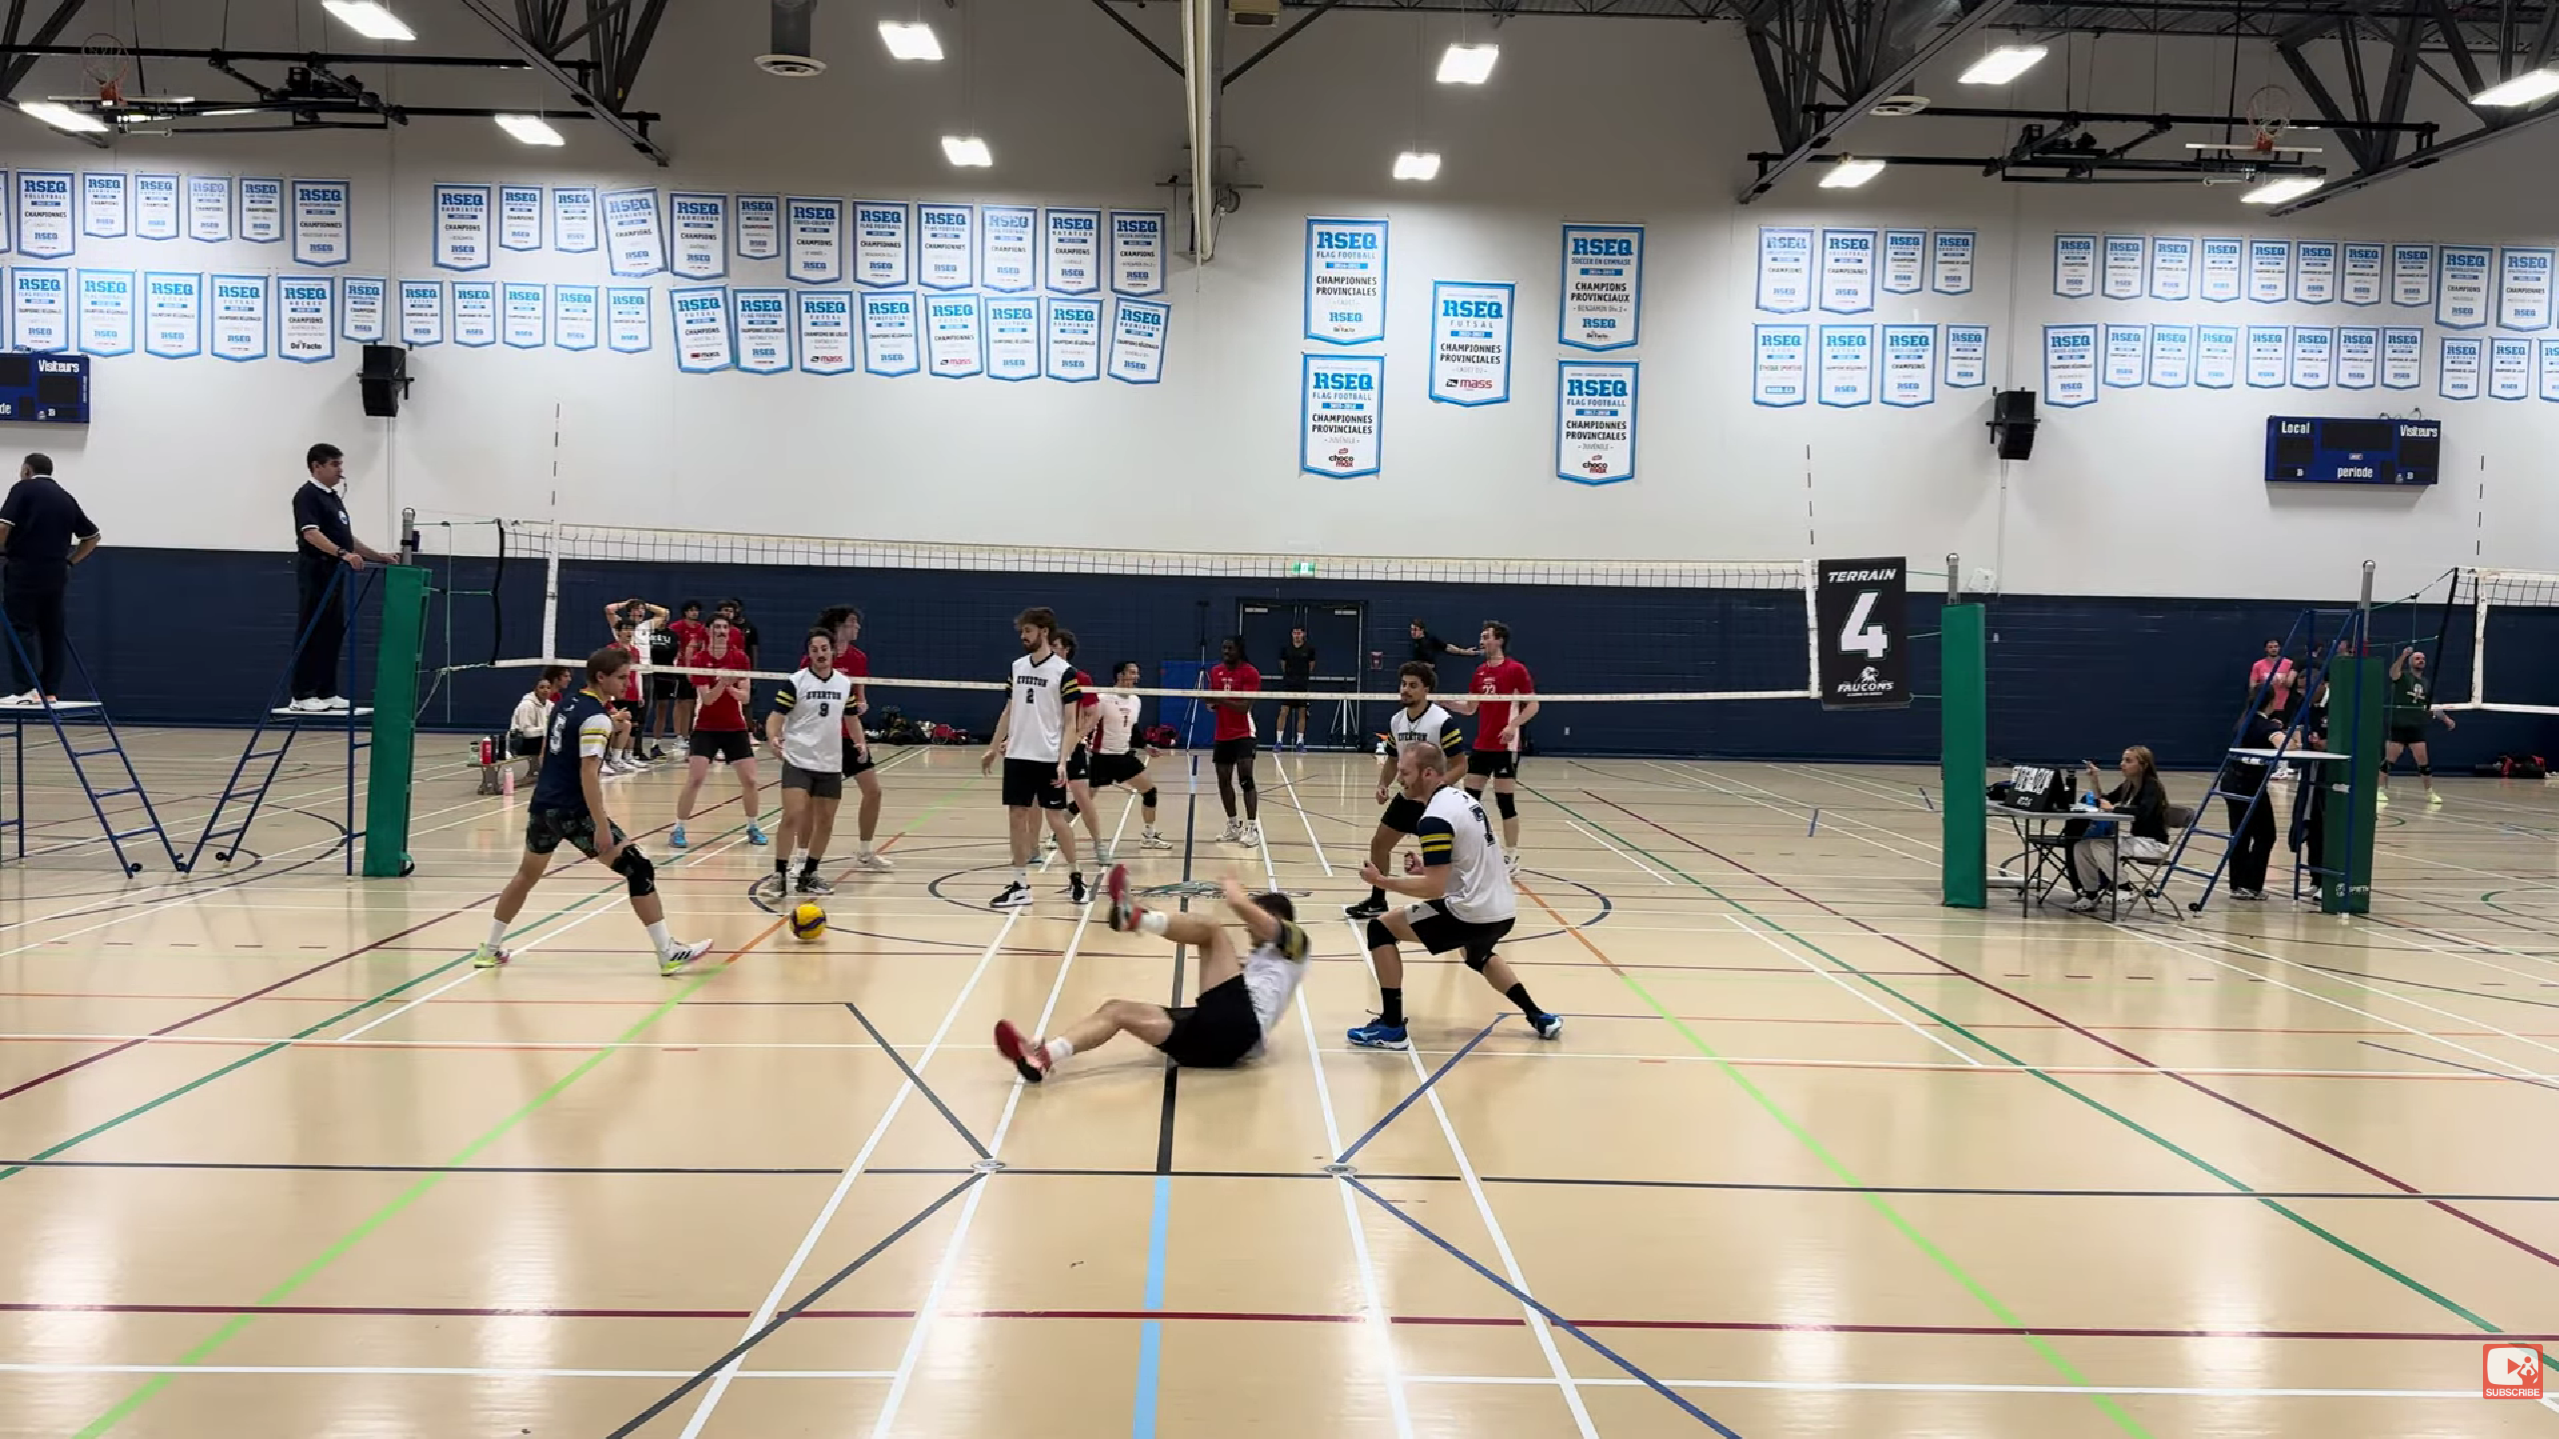Ball: (787, 901, 828, 942)
